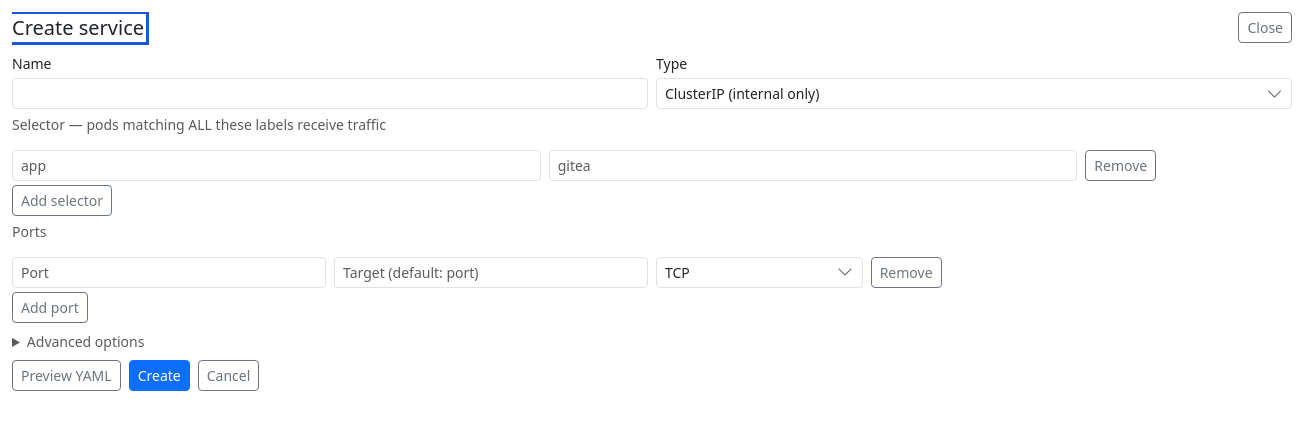
ServiceCreate — validation › requires a name
Click the button "Create".
click(159, 375)  # box [129,360,190,391]
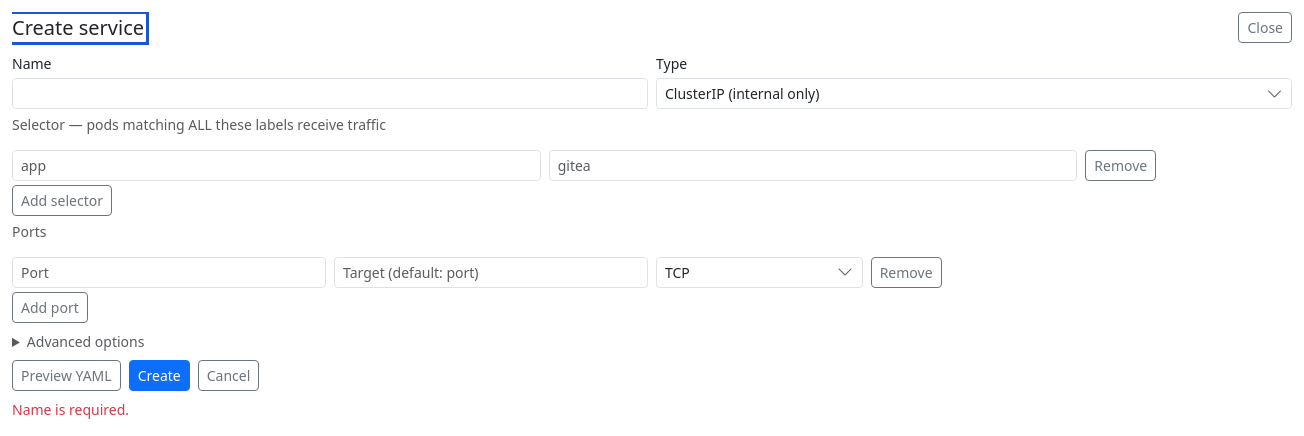
Check: the message "Name is required." is shown, box [12,400,129,419]
